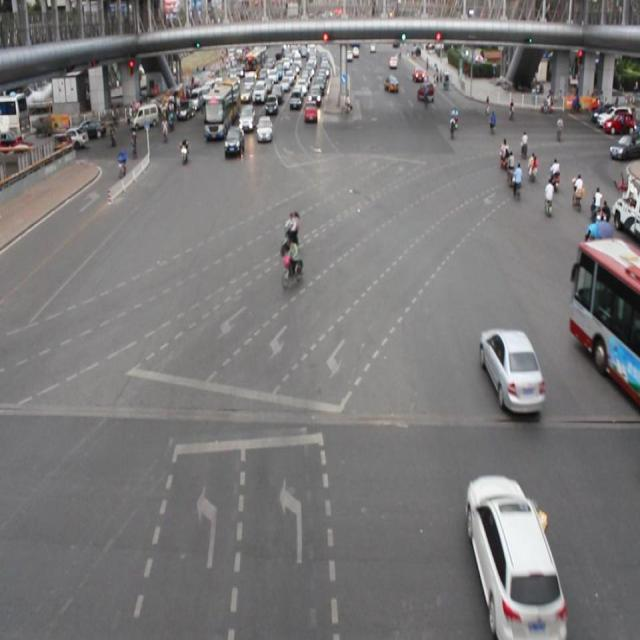car: (465, 478, 560, 632), (478, 325, 543, 417), (223, 123, 245, 161)
van: (571, 229, 640, 394)
